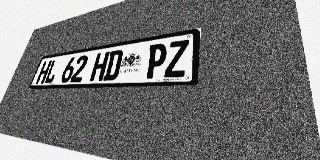2: (70, 55, 89, 82)
6: (59, 56, 78, 83)
D: (103, 49, 124, 81)
H: (89, 51, 110, 81), (35, 60, 52, 84)
L: (43, 59, 61, 84)
P: (144, 42, 168, 79)
Z: (164, 39, 189, 78)
